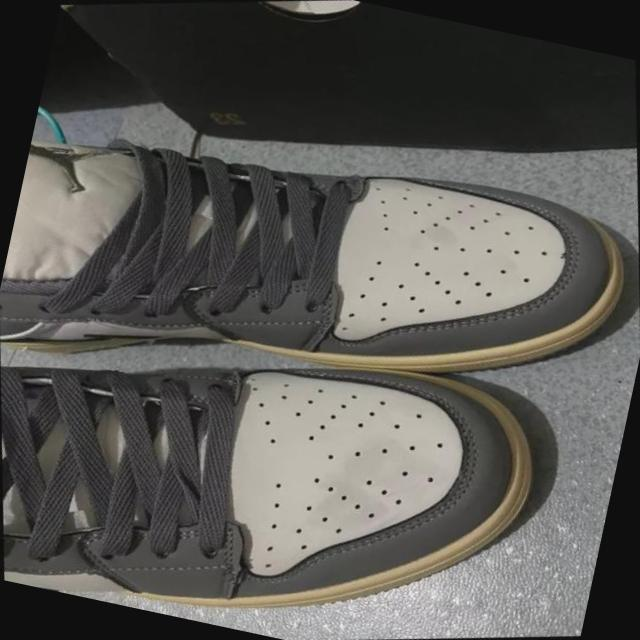nike_fake_jordan: (0, 6, 640, 510), (0, 241, 597, 640)
